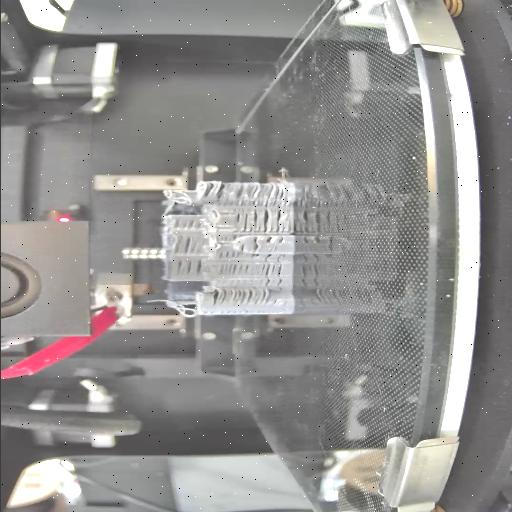cracks: (208, 287, 270, 307), (234, 184, 289, 206), (250, 211, 290, 233), (262, 254, 284, 288), (174, 236, 203, 254), (200, 182, 226, 202), (173, 260, 205, 276), (172, 218, 204, 230), (218, 264, 248, 276), (230, 214, 248, 232), (248, 236, 260, 258), (218, 252, 242, 260), (262, 236, 286, 244), (214, 235, 236, 243), (239, 242, 245, 252)
